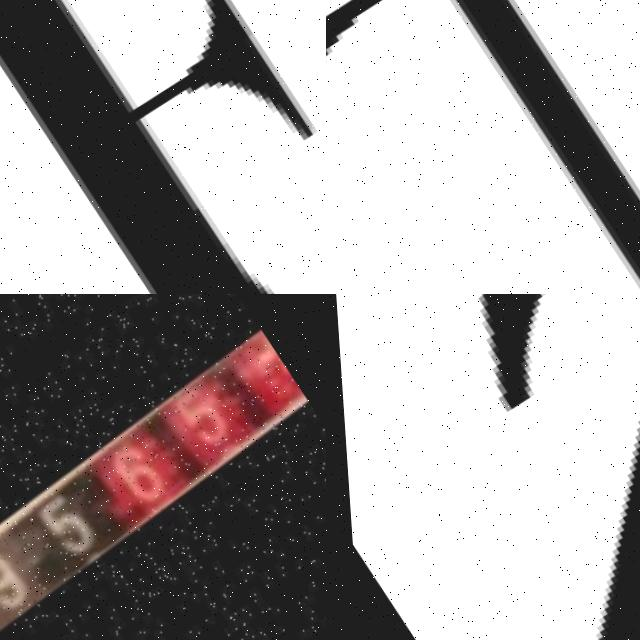3: (262, 353, 304, 409)
5: (21, 486, 99, 570), (159, 379, 235, 462)
6: (95, 438, 168, 518)
9: (0, 538, 32, 624)
T: (326, 0, 640, 294)
Z: (326, 294, 640, 640)
